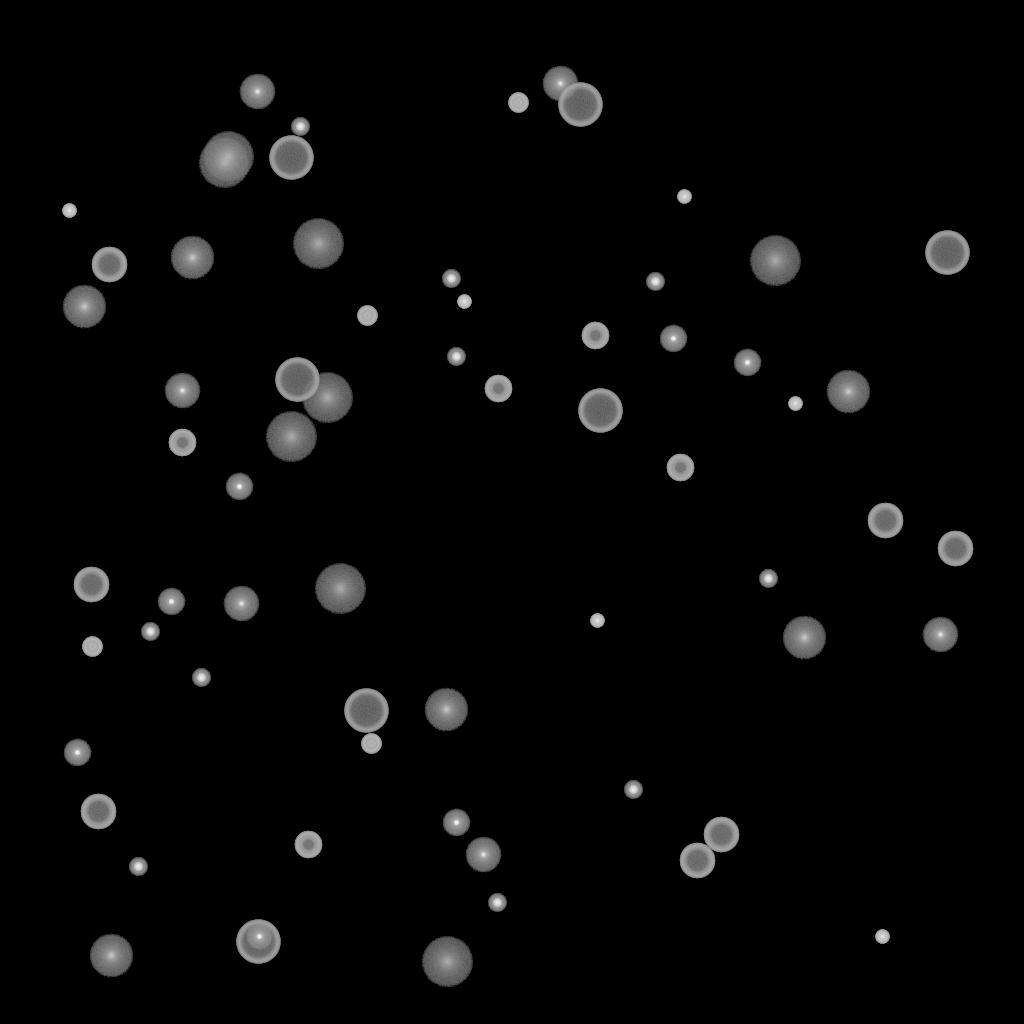depth:-10: (245, 923, 273, 951), (442, 809, 470, 837), (733, 349, 761, 377), (659, 325, 687, 353), (225, 473, 253, 501), (63, 739, 91, 767), (157, 588, 185, 616)
depth:-20: (291, 118, 309, 136), (141, 623, 159, 641), (646, 273, 664, 291), (488, 894, 506, 912), (129, 858, 147, 876), (759, 570, 777, 588), (192, 669, 210, 687), (624, 781, 642, 799), (442, 270, 460, 288), (447, 348, 465, 366)
depth:-30: (875, 930, 889, 944), (677, 190, 691, 204), (590, 614, 604, 628), (62, 204, 76, 218), (788, 397, 802, 411), (457, 295, 471, 309)
depth:-40: (357, 306, 377, 326), (508, 93, 528, 113), (361, 734, 381, 754), (82, 637, 102, 657)
depth:-50: (484, 375, 512, 403), (666, 454, 694, 482), (581, 322, 609, 350), (294, 831, 322, 859), (168, 429, 196, 457)
depth:-60: (937, 531, 973, 567), (679, 843, 715, 879), (80, 794, 116, 830), (73, 567, 109, 603), (91, 247, 127, 283), (703, 817, 739, 853), (867, 503, 903, 539)
depth:-70: (275, 358, 319, 402), (558, 83, 602, 127), (344, 689, 388, 733), (578, 389, 622, 433), (269, 136, 313, 180), (925, 231, 969, 275), (236, 920, 280, 964)
depth:0: (922, 617, 958, 653), (465, 837, 501, 873), (542, 66, 578, 102), (164, 373, 200, 409), (239, 74, 275, 110), (223, 586, 259, 622)
depth:10: (170, 236, 214, 280), (826, 370, 870, 414), (89, 934, 133, 978), (782, 616, 826, 660), (424, 688, 468, 732), (62, 285, 106, 329)
depth:20: (292, 219, 344, 269), (202, 132, 254, 182), (301, 373, 353, 423), (314, 564, 366, 614), (749, 236, 801, 286), (421, 937, 473, 987), (265, 412, 317, 462), (198, 138, 250, 188)
